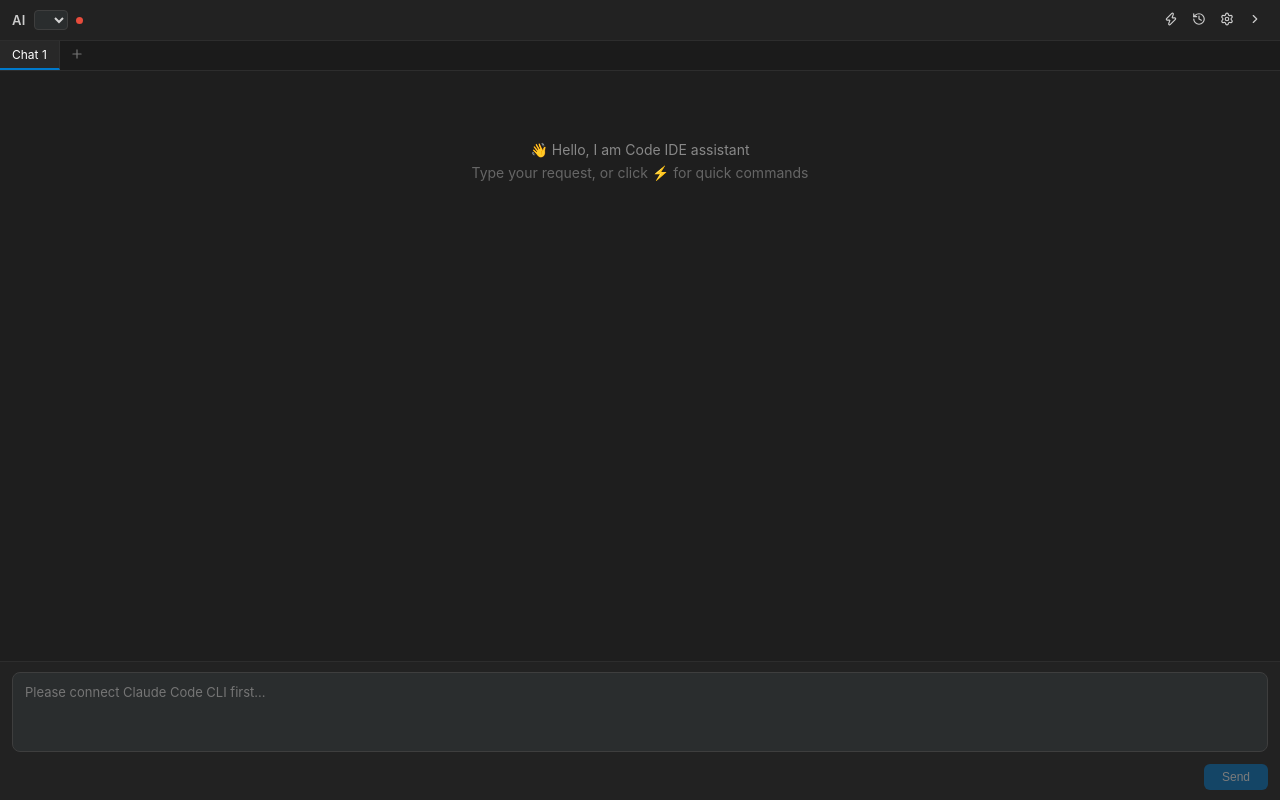
Test: AIChatPanelConnected › should hide content after toggling to collapsed
This screenshot has width=1280, height=800.
Check: the element with test id "ai-chat-chat-messages" is shown, box [472, 141, 808, 181]
Note: Toggle to collapse
What coordinates should you click on to do the following:
click the button with test id "ai-chat-panel-toggle"
I would click on:
 (1255, 20)
Its box is [1242, 10, 1268, 30].
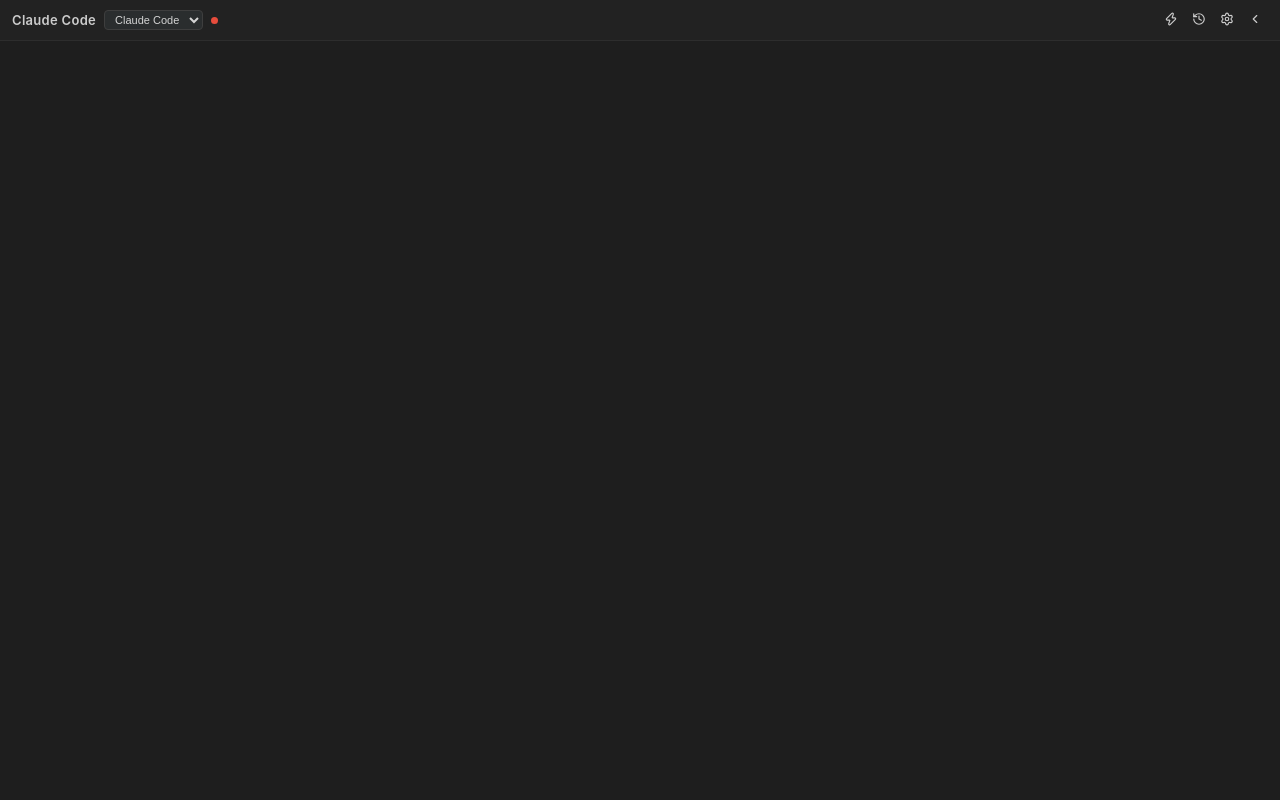
Check: the element with test id "ai-chat-chat-messages" is gone
